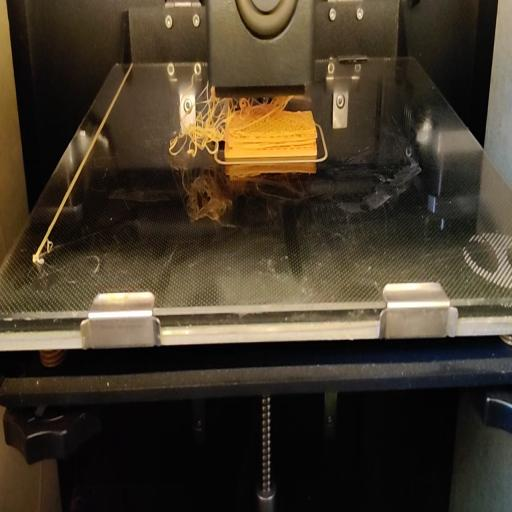spaghetti: (168, 81, 224, 162)
